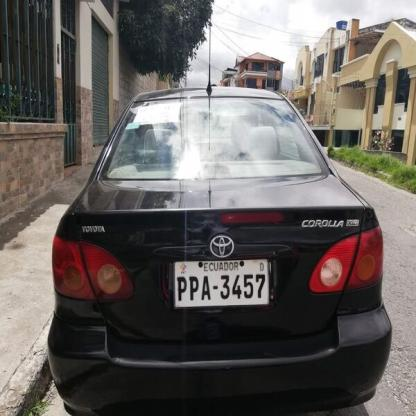Placa: (173, 255, 270, 306)
